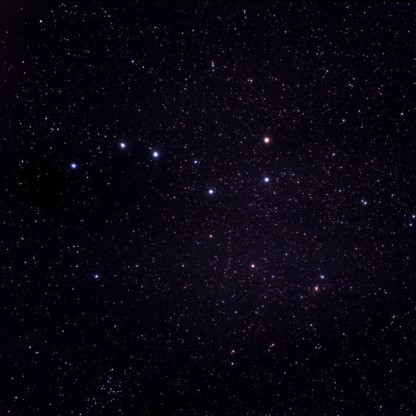Ursa Major: (63, 157, 84, 181), (183, 153, 205, 175), (256, 167, 278, 189), (257, 128, 278, 148), (202, 179, 220, 202), (112, 137, 132, 156), (147, 147, 162, 162)
